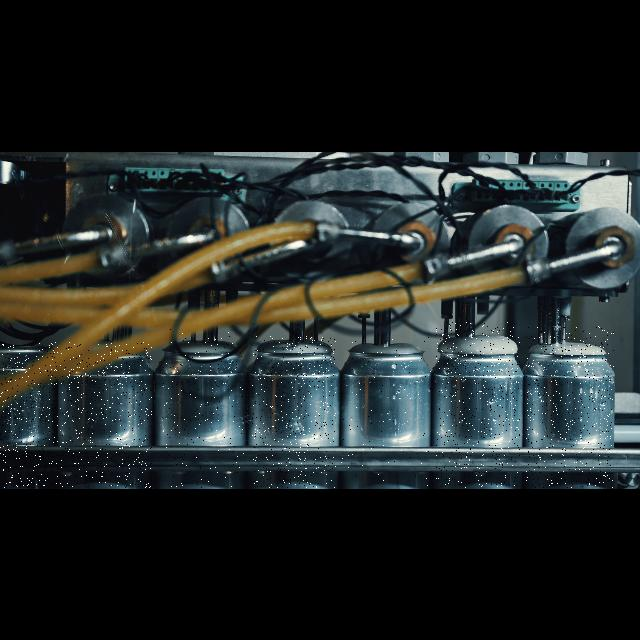empty: (60, 342, 152, 488), (0, 342, 58, 488)
full: (526, 326, 614, 488), (340, 336, 432, 488), (436, 322, 520, 488), (162, 328, 244, 488), (252, 336, 336, 488)
